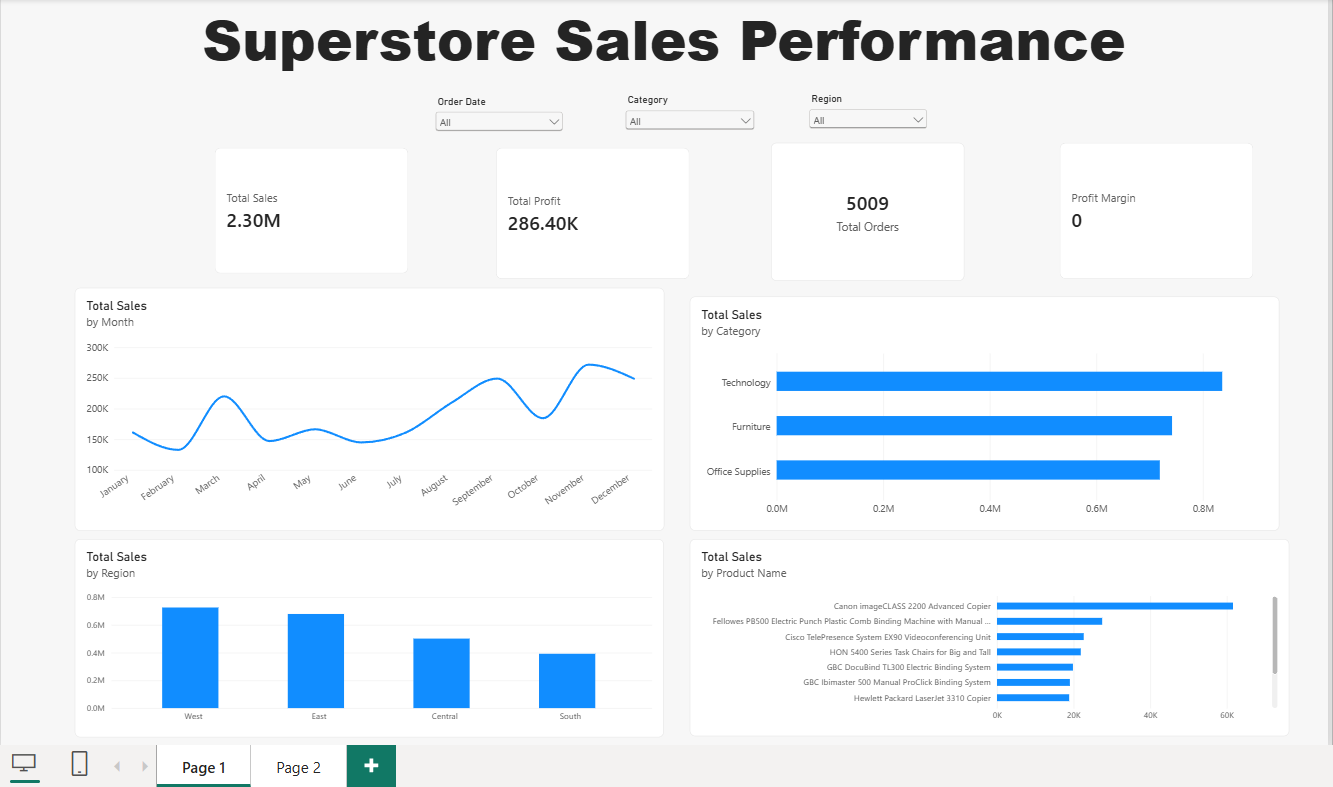

Layout of this report page (visuals, bound fields, positions):
{"tool":"powerbi","page":{"name":"Page 1","canvas":[1920,1080],"ordinal":0},"visuals":[{"type":"cardVisual","fields":{"Data":["Superstore.Total Sales"]},"box":[310,215,280,182.5],"z":0},{"type":"cardVisual","fields":{"Data":["Superstore.Total Profit"]},"box":[717.5,215,280,190],"z":1},{"type":"cardVisual","fields":{"Data":["Superstore.Profit Margin"]},"box":[1532.5,207.5,280,197.5],"z":2},{"type":"card","fields":{"Values":["Superstore.Total Orders"]},"box":[1115,207.5,280,200],"z":3},{"type":"lineChart","fields":{"Category":["Superstore.Order Date.Variation.Date Hierarchy.Year","Superstore.Order Date.Variation.Date Hierarchy.Month"],"Y":["Superstore.Total Sales"]},"box":[107.5,417.5,853.3,352],"z":4},{"type":"clusteredBarChart","fields":{"Category":["Superstore.Category"],"Y":["Superstore.Total Sales"]},"box":[997.5,430,853.3,339.2],"z":5},{"type":"clusteredColumnChart","fields":{"Category":["Superstore.Region"],"Y":["Superstore.Total Sales"]},"box":[107.5,782.5,853,287],"z":6},{"type":"clusteredBarChart","fields":{"Category":["Superstore.Product Name"],"Y":["Superstore.Total Sales"]},"box":[997.5,782.5,868.3,285.9],"z":7},{"type":"slicer","fields":{"Values":["Superstore.Order Date"]},"box":[625,140,194.1,76.8],"z":8},{"type":"slicer","fields":{"Values":["Superstore.Region"]},"box":[1165,135,180,80],"z":9},{"type":"slicer","fields":{"Values":["Superstore.Category"]},"box":[900,137.5,196.3,76.8],"z":10},{"type":"textbox","box":[0,0,1920,140],"z":11}]}

Visuals, with their boxes on the page's 1920x1080 design canvas (x1, y1, x2, y2). These are canvas units, not pixel positions in the 1333x787 screenshot, which may show the page scaled, cropped or inside an application window:
cardVisual - Superstore.Total Sales: box=[310, 215, 590, 398]
cardVisual - Superstore.Total Profit: box=[718, 215, 998, 405]
cardVisual - Superstore.Profit Margin: box=[1532, 208, 1812, 405]
card - Superstore.Total Orders: box=[1115, 208, 1395, 408]
lineChart - Superstore.Order Date.Variation.Date Hierarchy.Year x Superstore.Order Date.Variation.Date Hierarchy.Month: box=[108, 418, 961, 770]
clusteredBarChart - Superstore.Category x Superstore.Total Sales: box=[998, 430, 1851, 769]
clusteredColumnChart - Superstore.Region x Superstore.Total Sales: box=[108, 782, 960, 1070]
clusteredBarChart - Superstore.Product Name x Superstore.Total Sales: box=[998, 782, 1866, 1068]
slicer - Superstore.Order Date: box=[625, 140, 819, 217]
slicer - Superstore.Region: box=[1165, 135, 1345, 215]
slicer - Superstore.Category: box=[900, 138, 1096, 214]
textbox: box=[0, 0, 1920, 140]
